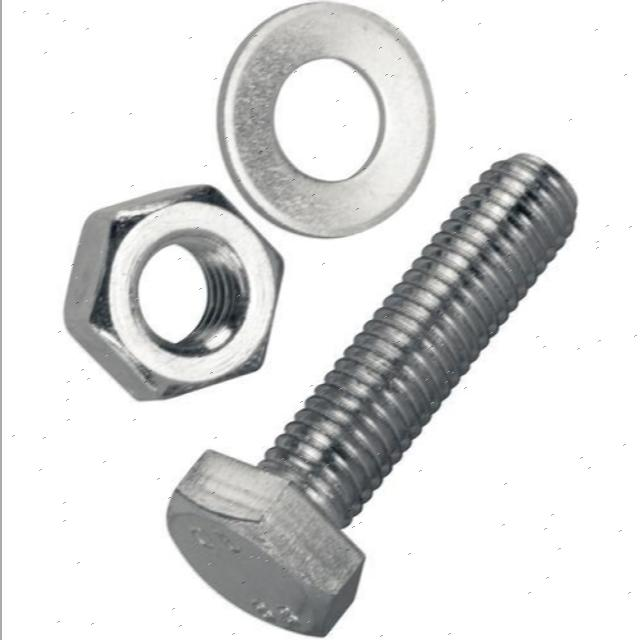Bolt: (162, 152, 580, 638)
Nut: (58, 180, 286, 408)
